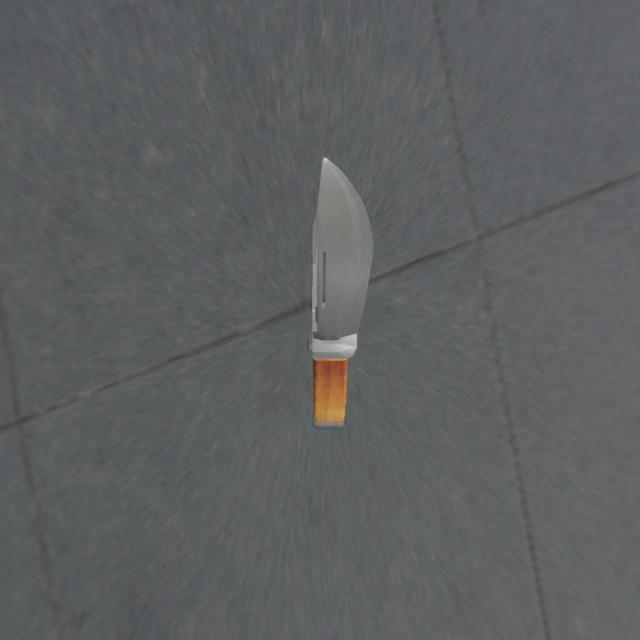knife: (308, 338, 353, 446)
